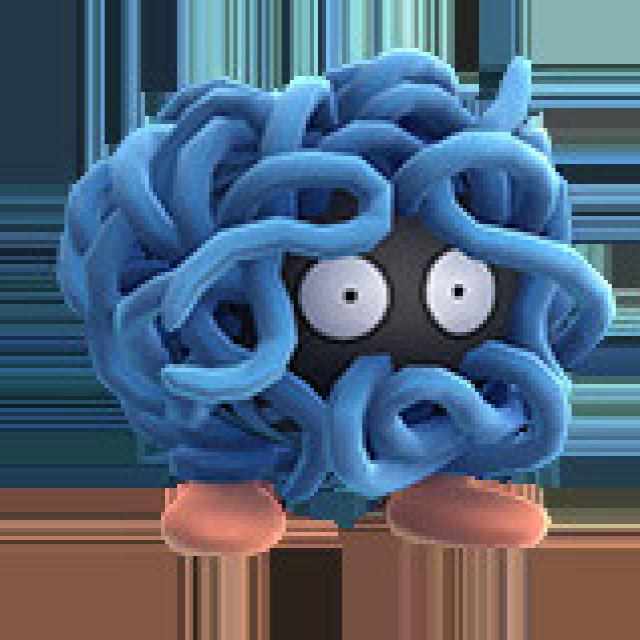Tangela: (91, 52, 618, 555)
